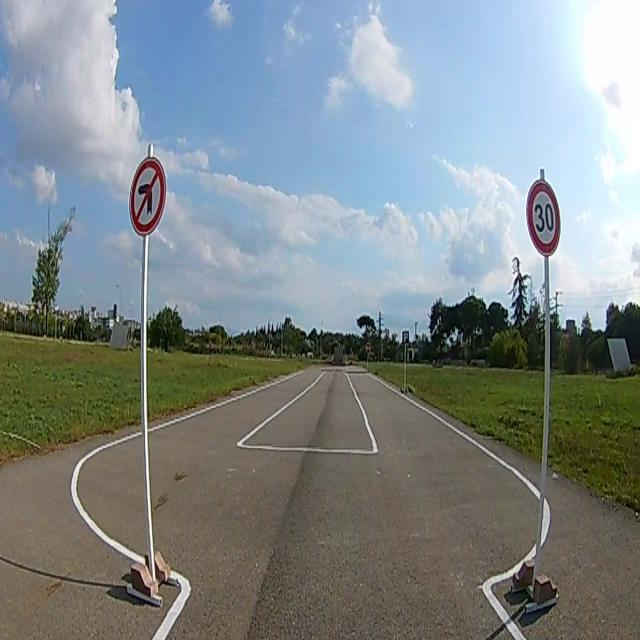30: (526, 180, 560, 256)
soladonulmez: (128, 158, 166, 235)
